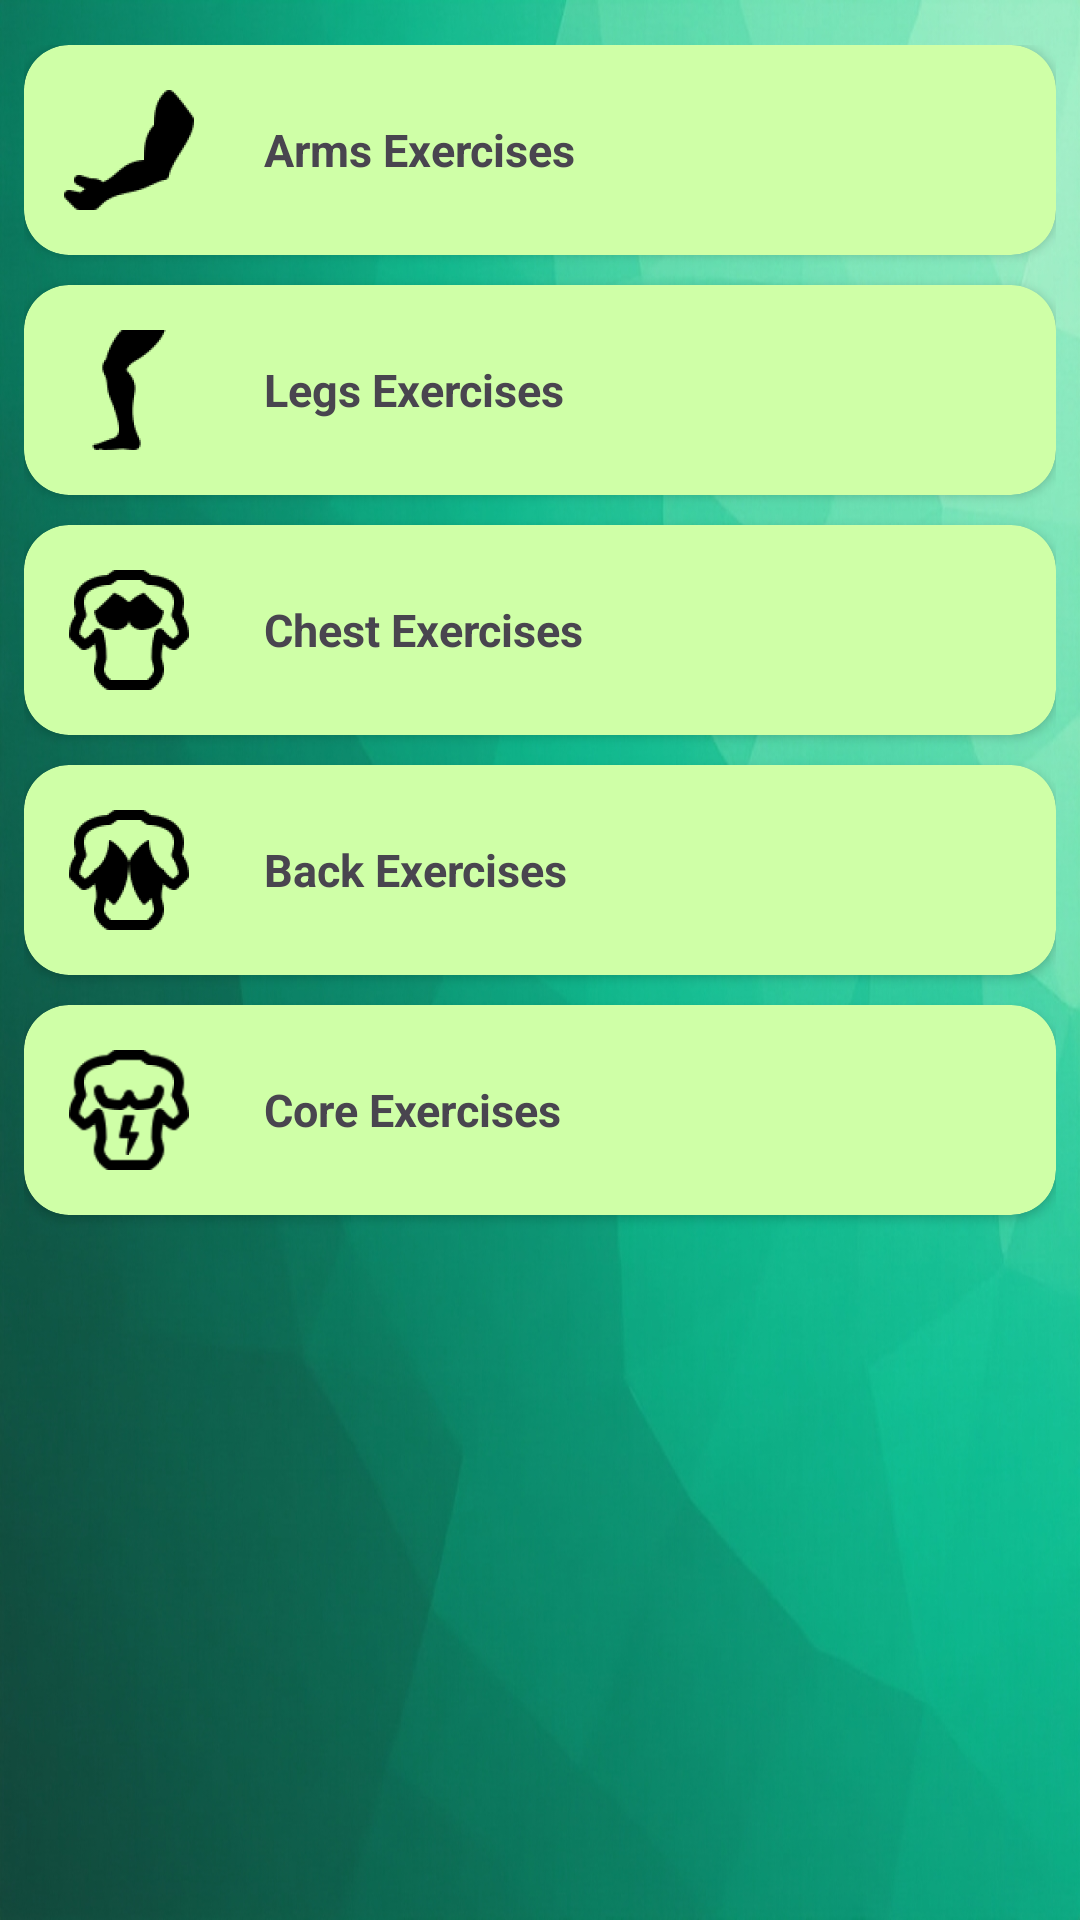

Named icons in this screenshot (1080x1920) and their centers, [x,y]:
arms category: [129,150]
back categories: [129,870]
chest category: [129,630]
core categories: [129,1110]
legs category: [129,390]
